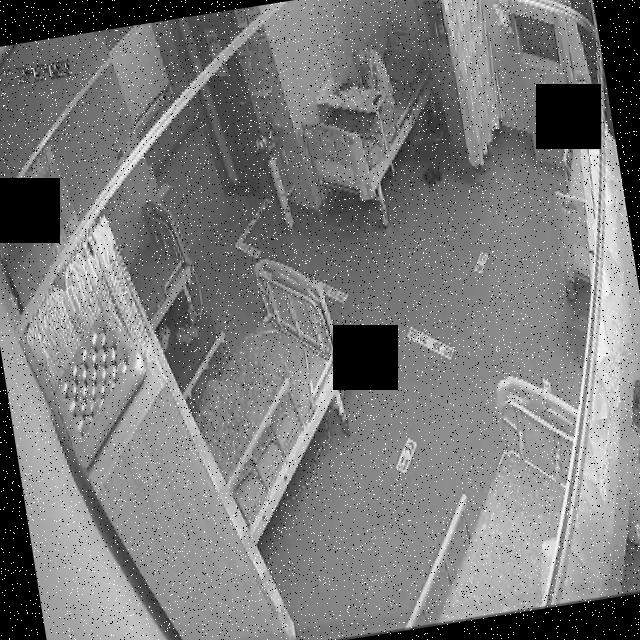bed: (370, 364, 608, 630), (173, 251, 368, 545), (290, 26, 452, 208), (119, 198, 202, 334)
patient: (350, 38, 398, 118)
sit: (349, 38, 398, 118)
